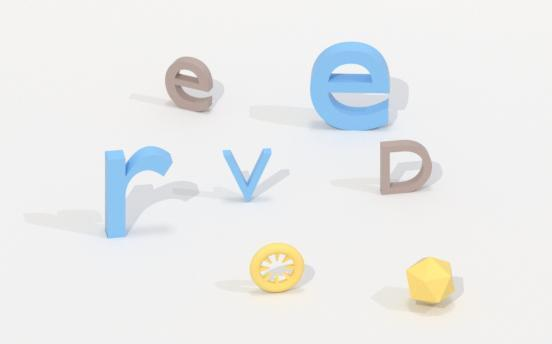chu_khoi: (311, 42, 389, 128), (105, 146, 171, 237), (380, 140, 429, 193), (165, 57, 212, 111), (223, 148, 271, 200)
da_giac: (406, 257, 454, 304)
dia_sao: (250, 243, 302, 291)
